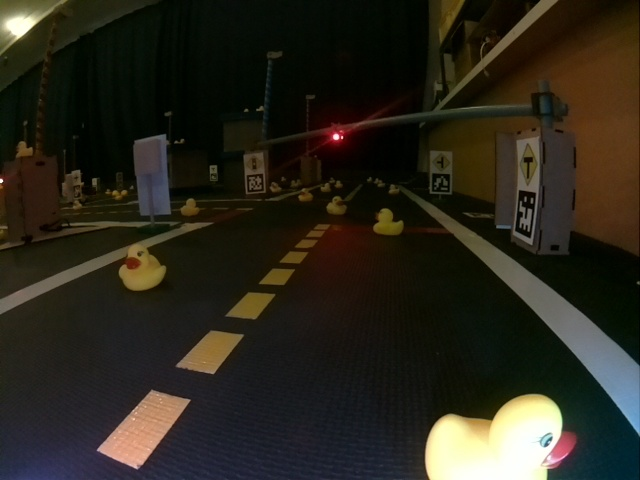Duckie: (426, 395, 577, 479), (119, 244, 166, 291), (375, 208, 403, 235), (327, 197, 347, 214), (181, 199, 199, 216), (16, 141, 32, 156), (298, 188, 313, 201), (389, 184, 399, 194), (321, 184, 330, 193), (334, 181, 343, 190), (271, 183, 279, 192)
Intersection sign: (519, 145, 538, 184), (434, 155, 451, 169)
QR code: (516, 191, 537, 239), (432, 174, 450, 192), (246, 175, 264, 193), (464, 212, 495, 221)
Signal sign: (246, 155, 263, 172)
Traffic light: (330, 130, 343, 142)
